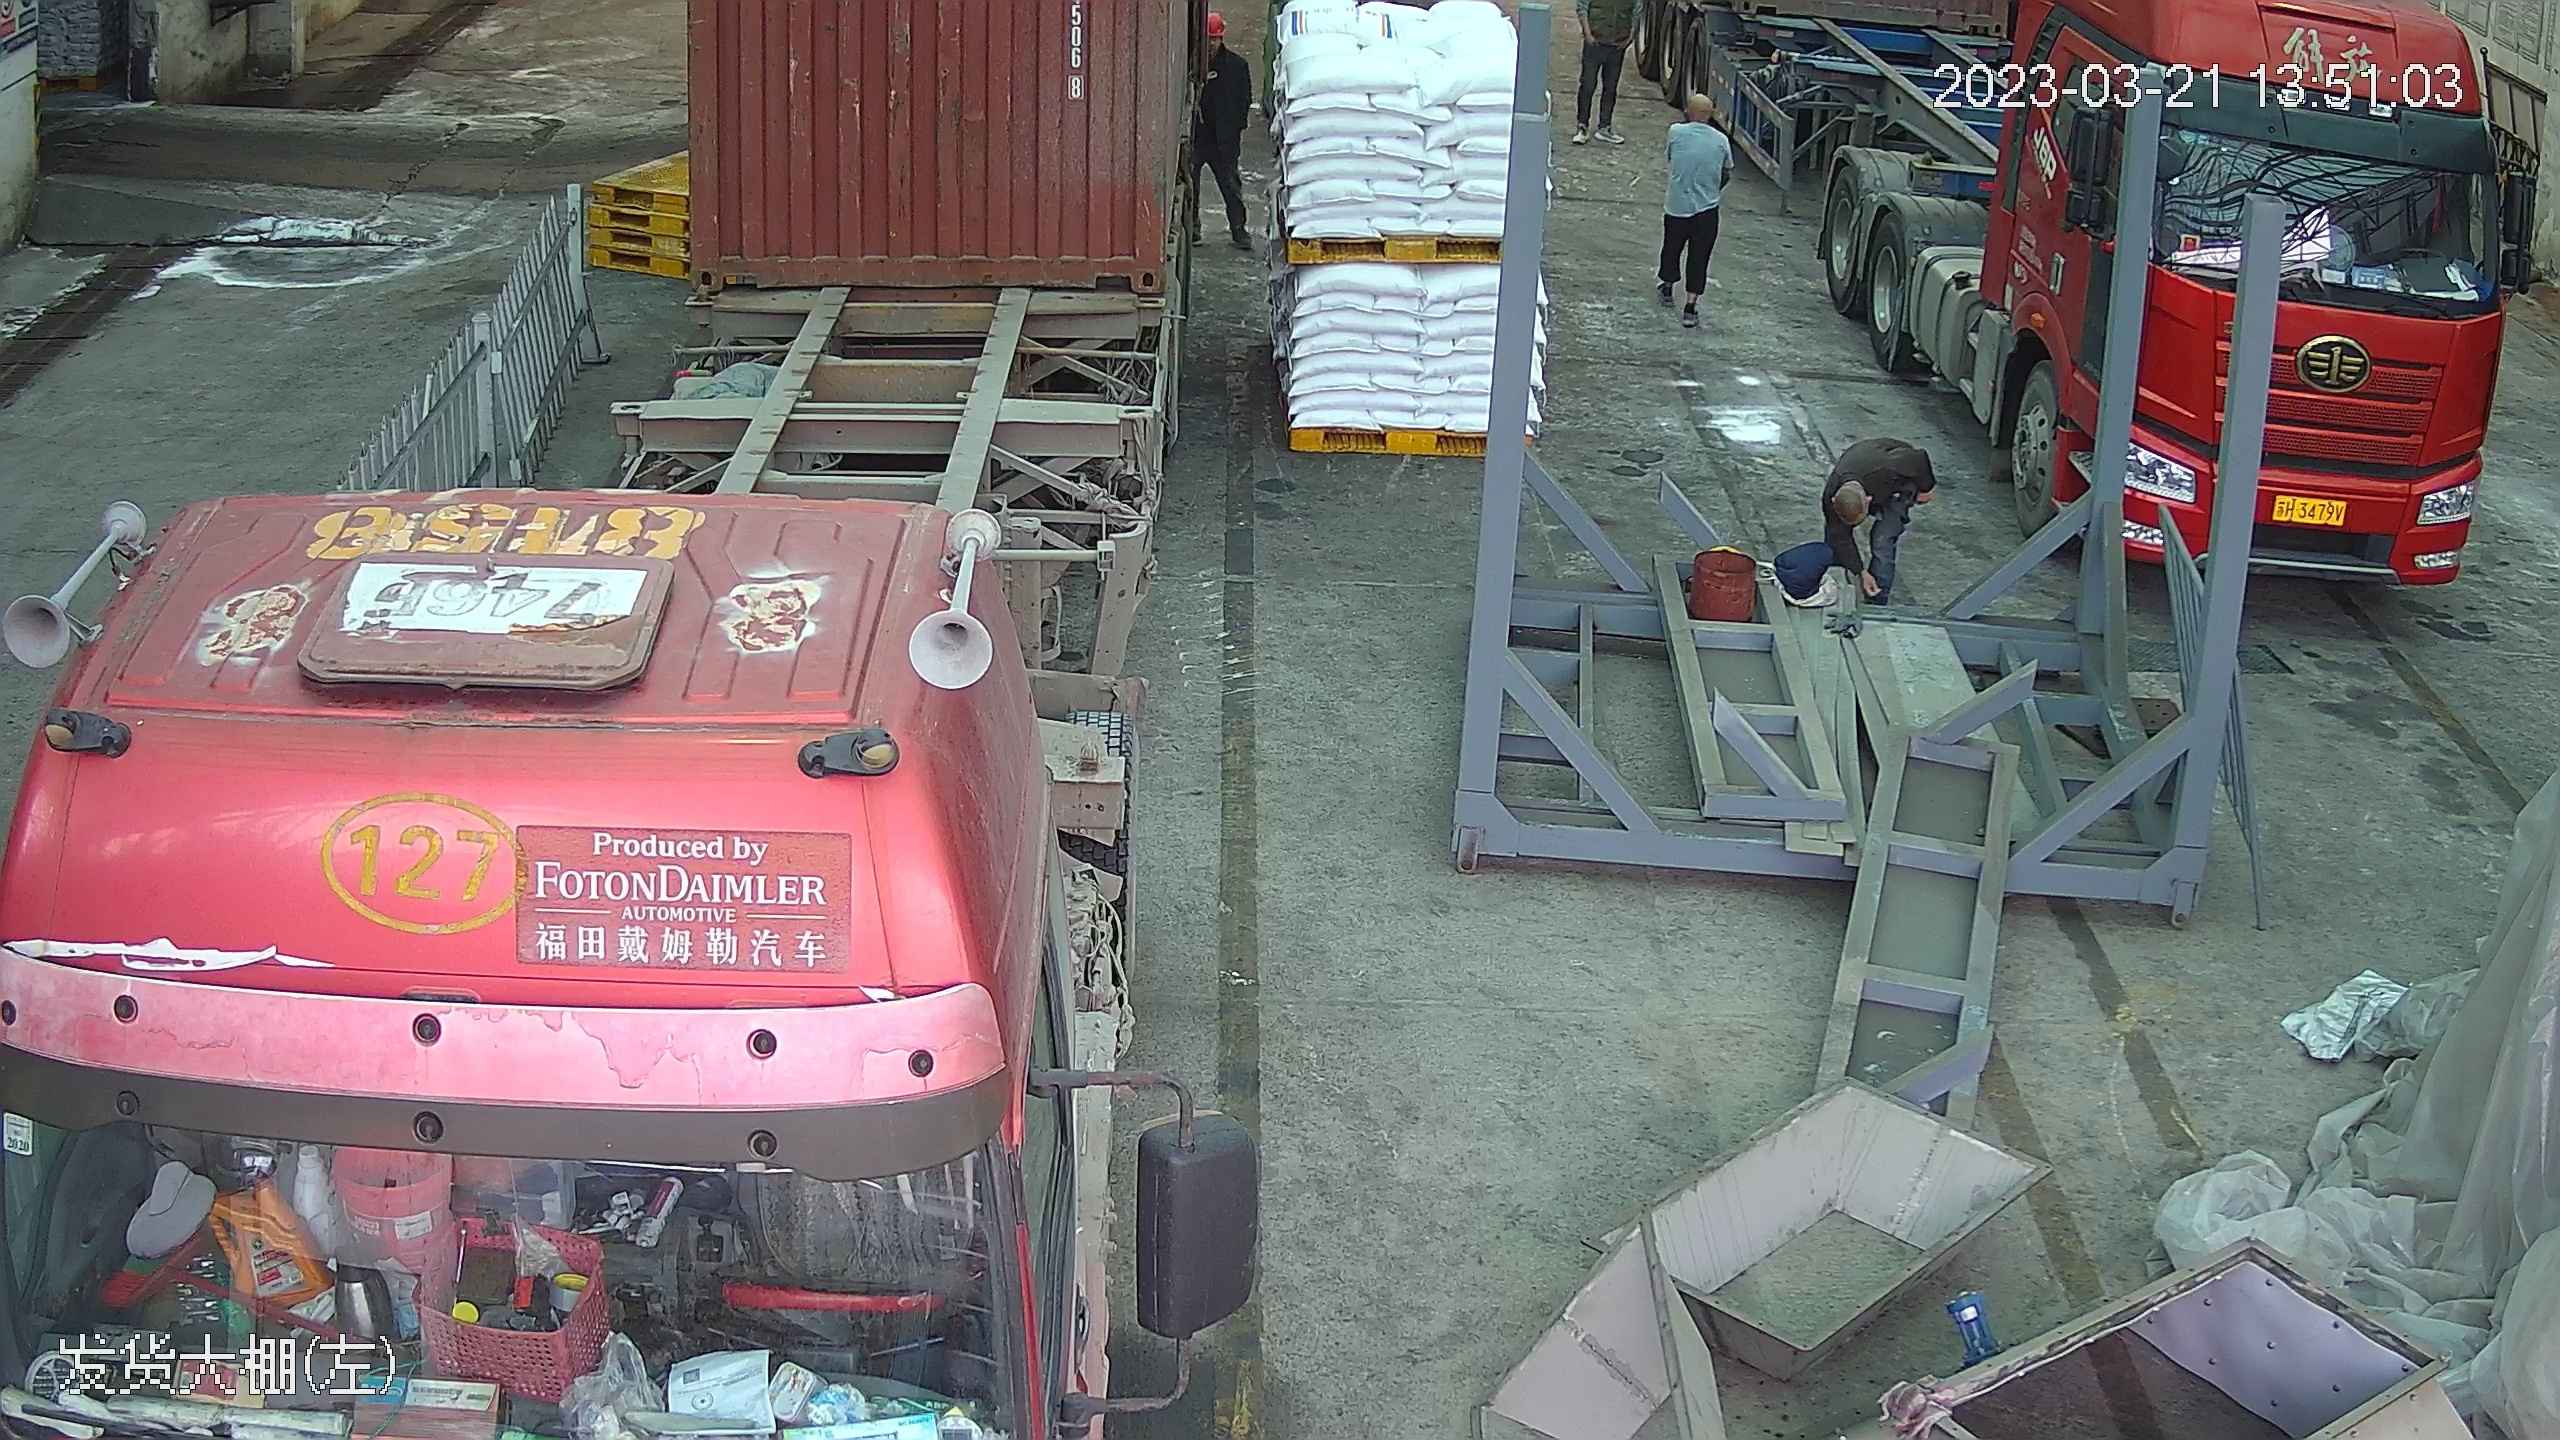head: (1817, 451, 1910, 528), (1195, 13, 1254, 81), (1674, 92, 1726, 153)
helmet: (1203, 12, 1232, 33)
people: (1795, 426, 1947, 608), (1657, 90, 1736, 331), (1184, 10, 1257, 255), (1571, 1, 1632, 135)
truck: (1, 1, 1172, 1440), (1983, 1, 2540, 588)
